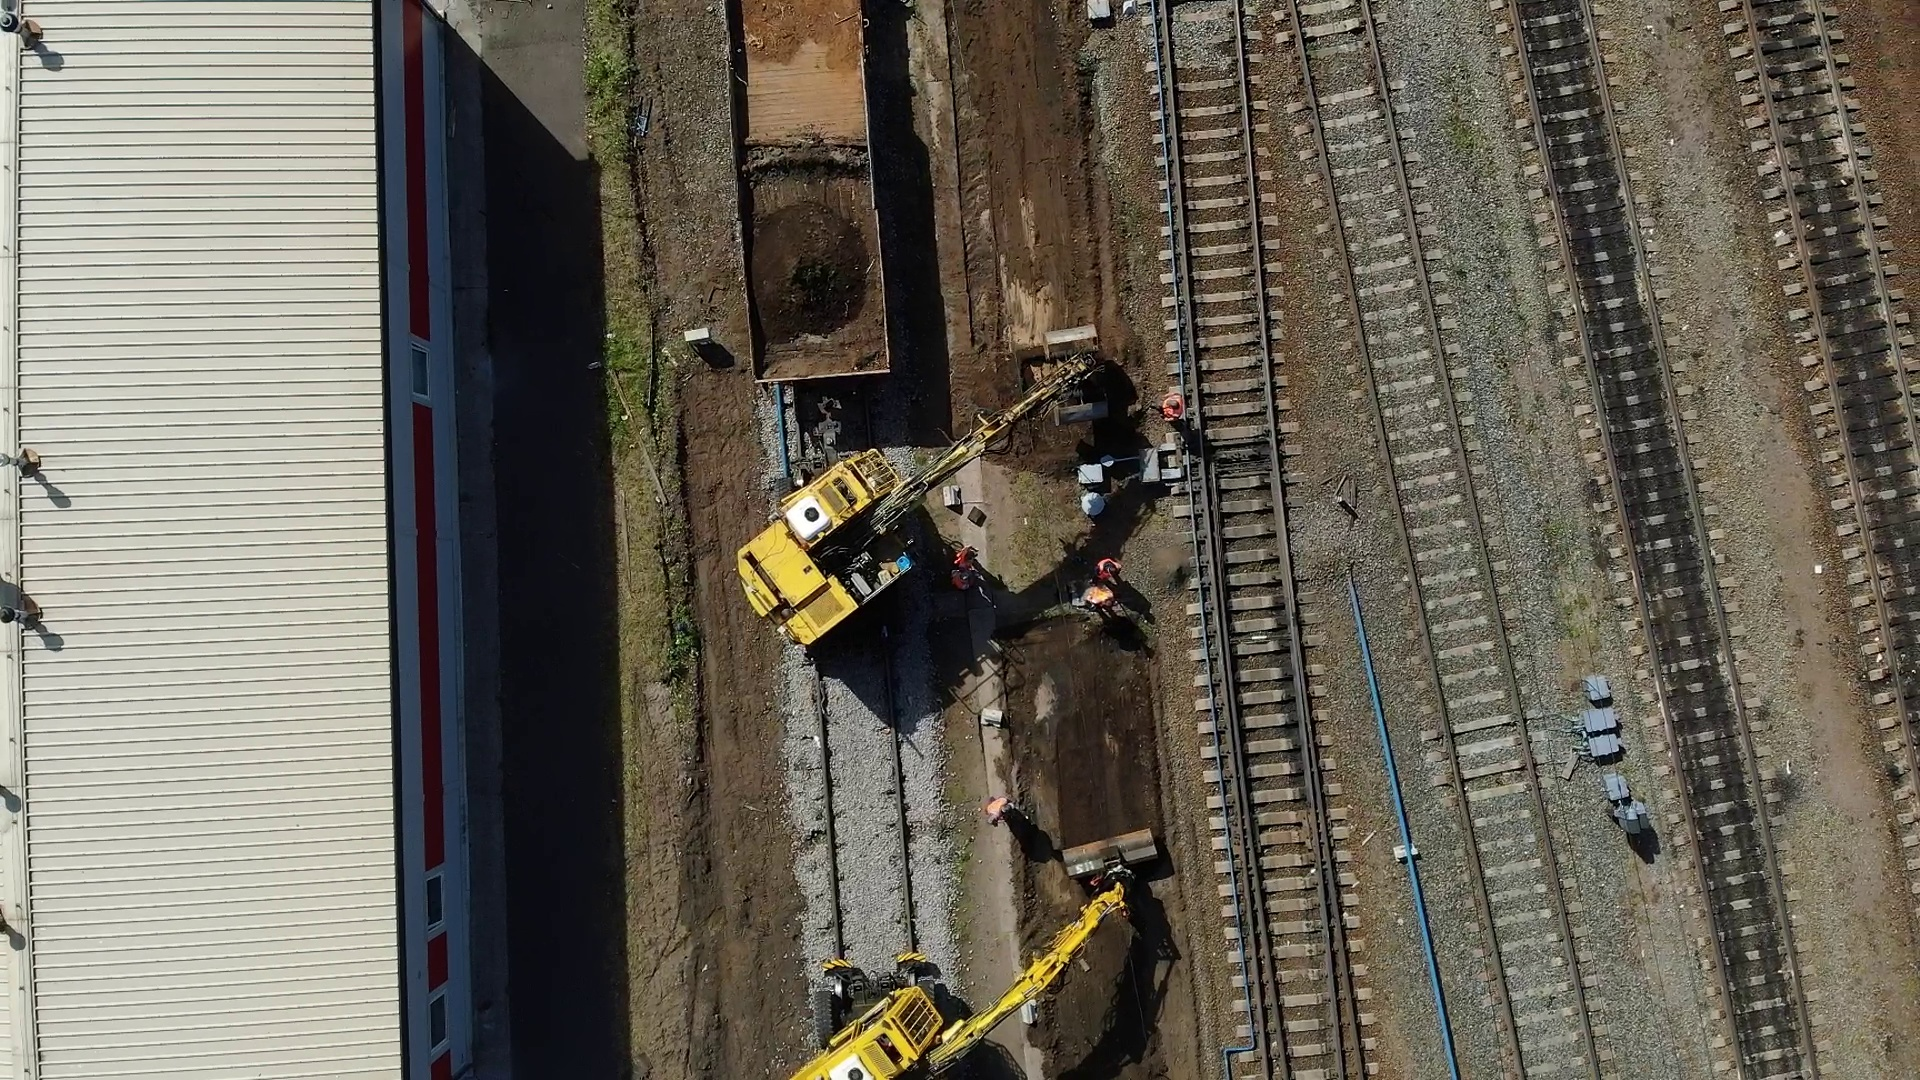kjtv: (741, 439, 981, 644), (787, 953, 1034, 1080)
